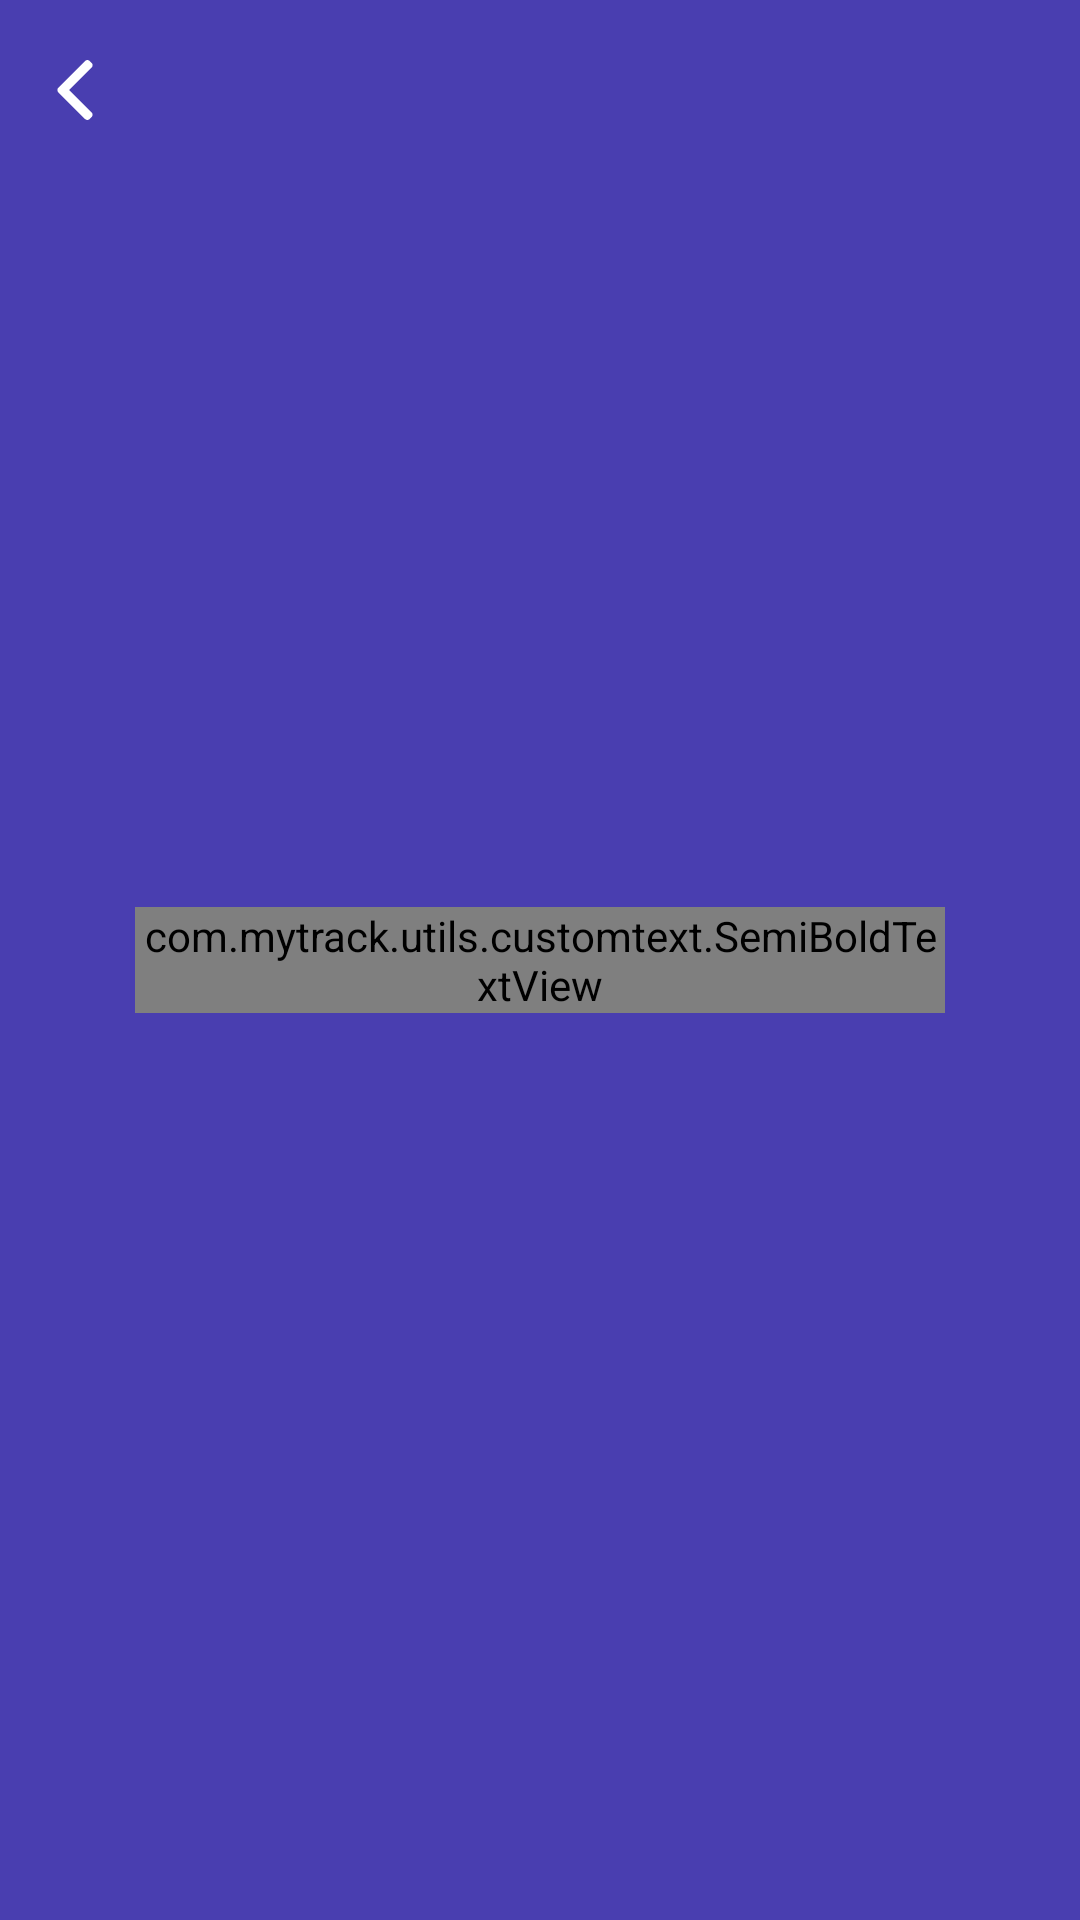

Icon bounding boxes for this 1080*1920 phone screenshot, format (x1, y1, x2, y2):
back: (57, 60, 93, 120)
